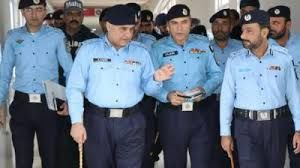uniform: (77, 34, 148, 164), (222, 30, 292, 161), (151, 26, 217, 159), (9, 27, 63, 154)
